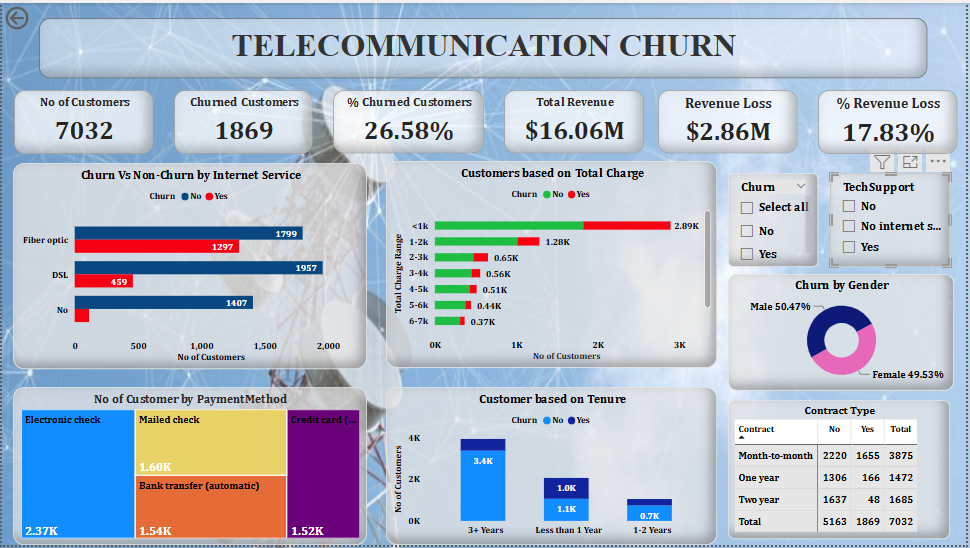

Layout of this report page (visuals, bound fields, positions):
{"tool":"powerbi","page":{"name":"Page 1","canvas":[1280,720],"ordinal":0},"visuals":[{"type":"card","title":"No of Customers","fields":{"Values":["CountNonNull(Telco-Customer-Churn.customerID)"]},"box":[16.1,115.6,185,84.9],"z":0},{"type":"actionButton","box":[0,0,100,40],"z":1000},{"type":"donutChart","title":"Churn by Gender","fields":{"Category":["Gender.gender"],"Y":["CountNonNull(Telco-Customer-Churn.gender)"]},"box":[964.4,360,300,155.1],"z":2000},{"type":"clusteredBarChart","title":" Churn Vs Non-Churn by Internet Service","fields":{"Y":["CountNonNull(Telco-Customer-Churn.customerID)"],"Category":["Internet Service.InternetService"],"Series":["ChurnedTable.Churn"]},"box":[14.6,212.2,469.8,273.7],"z":3000},{"type":"treemap","title":"No of Customer by PaymentMethod","fields":{"Group":["Method of Payment.PaymentMethod"],"Values":["CountNonNull(Telco-Customer-Churn.customerID)"]},"box":[15,510,470,210],"z":4000},{"type":"columnChart","title":"Customer based on Tenure","fields":{"Y":["CountNonNull(Telco-Customer-Churn.customerID)"],"Category":["Tenure By Year.Custom"],"Series":["Churn Relation.Churn"]},"box":[510,510,440.5,210],"z":5000},{"type":"barChart","title":"Customers based on Total Charge","fields":{"Category":["Telco-Customer-Churn.TotalChargeBin"],"Series":["ChurnedTable.Churn"],"Y":["CountNonNull(Telco-Customer-Churn.customerID)"]},"box":[510,210,440.5,275],"z":6000},{"type":"slicer","fields":{"Values":["Telco-Customer-Churn.TechSupport"]},"box":[1100,225.4,160,125],"z":7000},{"type":"pivotTable","title":"Contract Type","fields":{"Rows":["ContractType.Contract"],"Columns":["ChurnedTable.Churn"],"Values":["CountNonNull(Telco-Customer-Churn.customerID)"]},"box":[964.2,527.5,295,185],"z":8000},{"type":"slicer","fields":{"Values":["Telco-Customer-Churn.Churn"]},"box":[965,225.4,120,125],"z":9000},{"type":"textbox","box":[49.8,20.5,1180,80.5],"z":10000},{"type":"card","title":"Churned Customers","fields":{"Values":["CountNonNull(Telco-Customer-Churn.Churn)"]},"box":[228.3,115.6,184.4,84.9],"z":11000},{"type":"card","title":"% Churned Customers","fields":{"Values":["Telco-Customer-Churn.Percentage of Churned Customers"]},"box":[440.1,115.9,199.9,84],"z":12000},{"type":"card","title":"Revenue Loss","fields":{"Values":["Telco-Customer-Churn.Revenue Loss"]},"box":[871.8,115.9,184.8,84],"z":13000},{"type":"card","title":"% Revenue Loss","fields":{"Values":["Telco-Customer-Churn.Measure"]},"box":[1084.4,115.6,185,84.9],"z":14000},{"type":"card","title":"Total Revenue","fields":{"Values":["Telco-Customer-Churn.TotalCharges plus TotalCharges"]},"box":[666.9,115.9,186.5,84],"z":15000}]}

Visuals, with their boxes in screenshot pixels (x1, y1, x2, y2), scaled from the page's 1280x720 canvas onto the 970x548 screenshot:
"No of Customers" card: (12,88,152,153)
actionButton: (0,0,76,30)
"Churn by Gender" donutChart: (731,274,958,392)
" Churn Vs Non-Churn by Internet Service" clusteredBarChart: (11,162,367,370)
"No of Customer by PaymentMethod" treemap: (11,388,368,547)
"Customer based on Tenure" columnChart: (386,388,720,547)
"Customers based on Total Charge" barChart: (386,160,720,369)
slicer - Telco-Customer-Churn.TechSupport: (834,172,955,267)
"Contract Type" pivotTable: (731,401,954,542)
slicer - Telco-Customer-Churn.Churn: (731,172,822,267)
textbox: (38,16,932,77)
"Churned Customers" card: (173,88,313,153)
"% Churned Customers" card: (334,88,485,152)
"Revenue Loss" card: (661,88,801,152)
"% Revenue Loss" card: (822,88,962,153)
"Total Revenue" card: (505,88,647,152)
